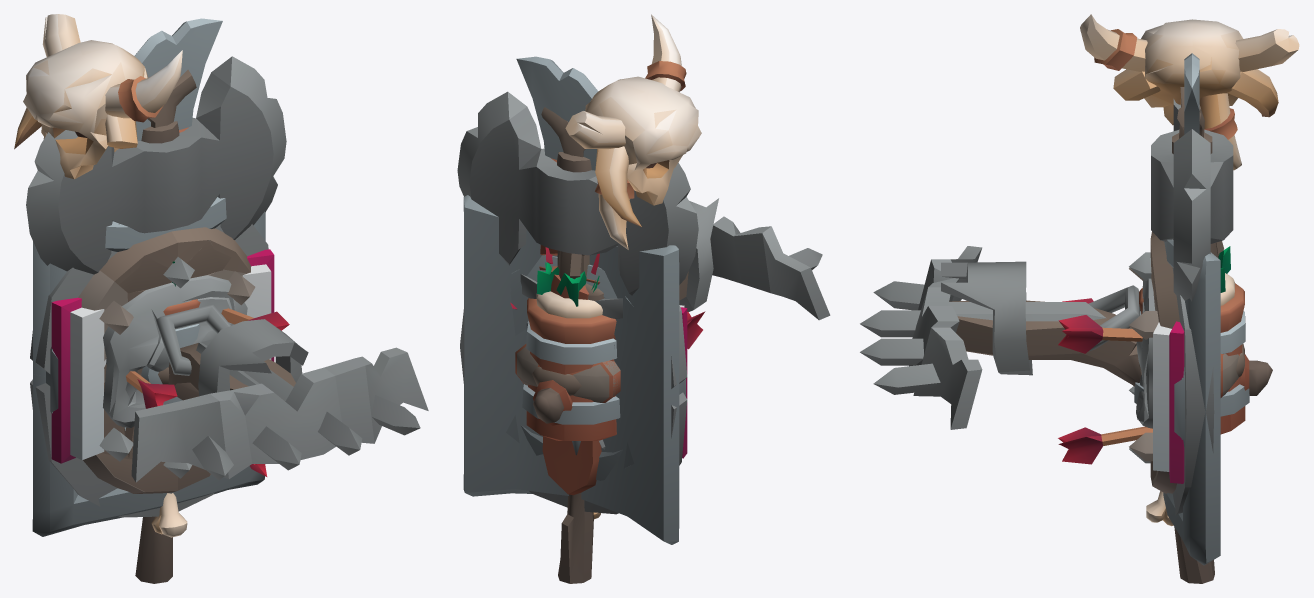
The model's file is kit_weapons.glb.
3 views of the same model, side by side, from view 1: azimuth 30°, elevation 25°; view 2: azimuth 150°, elevation 25°; view 3: azimuth 270°, elevation 25° (orthographic). The views are drawn at different scales.
Visible parts, largest first — view 1: Skeleton_Crossbow, Skeleton_Axe, Skeleton_Staff, Skeleton_Shield_Large_A, Skeleton_Shield_Large_B, shield_square_color, spellbook_open, Skeleton_Blade, Skeleton_Shield_Small_B, mug_full; view 2: shield_square_color, Skeleton_Axe, Skeleton_Staff, Skeleton_Crossbow, mug_full, Skeleton_Blade, quiver, Skeleton_Shield_Large_B, Skeleton_Shield_Large_A, Skeleton_Shield_Small_B, shield_round_color, arrow_bundle (+2 smaller); view 3: Skeleton_Crossbow, Skeleton_Staff, Skeleton_Axe, shield_square_color, Skeleton_Shield_Large_B, Skeleton_Shield_Large_A, spellbook_open, Skeleton_Shield_Small_B, mug_full, Skeleton_Blade, Skeleton_Shield_Small_A.
Boxes of the visible parts, x1,y1,x2,y2 form: Skeleton_Crossbow: (131, 304, 428, 482); Skeleton_Axe: (26, 56, 286, 274); Skeleton_Staff: (14, 14, 196, 583); Skeleton_Shield_Large_A: (30, 223, 247, 517); Skeleton_Shield_Large_B: (30, 224, 268, 516); shield_square_color: (32, 197, 265, 536); spellbook_open: (51, 249, 274, 463); Skeleton_Blade: (134, 18, 222, 140); Skeleton_Shield_Small_B: (46, 308, 289, 476); mug_full: (163, 299, 200, 404); shield_square_color: (463, 195, 679, 544); Skeleton_Axe: (457, 91, 698, 299); Skeleton_Staff: (541, 14, 701, 583); Skeleton_Crossbow: (533, 198, 830, 425); mug_full: (522, 291, 620, 440); Skeleton_Blade: (516, 56, 622, 449); quiver: (542, 262, 601, 495); Skeleton_Shield_Large_B: (517, 305, 687, 465); Skeleton_Shield_Large_A: (460, 306, 687, 514); Skeleton_Shield_Small_B: (521, 255, 705, 480); shield_round_color: (506, 269, 634, 468); arrow_bundle: (536, 262, 595, 455); Skeleton_Crossbow: (860, 246, 1272, 429); Skeleton_Staff: (1080, 14, 1299, 583); Skeleton_Axe: (1151, 99, 1233, 301); shield_square_color: (1163, 239, 1220, 565); Skeleton_Shield_Large_B: (1129, 231, 1238, 514); Skeleton_Shield_Large_A: (1136, 239, 1239, 515); spellbook_open: (1153, 321, 1184, 483); Skeleton_Shield_Small_B: (1058, 298, 1185, 464); mug_full: (1134, 273, 1249, 434); Skeleton_Blade: (1184, 53, 1199, 134); Skeleton_Shield_Small_A: (1174, 367, 1185, 446).
Bounding box in the file's own units: 1.11 × 2.1 × 1.51.
Materials: 5 (5 with a texture image).
